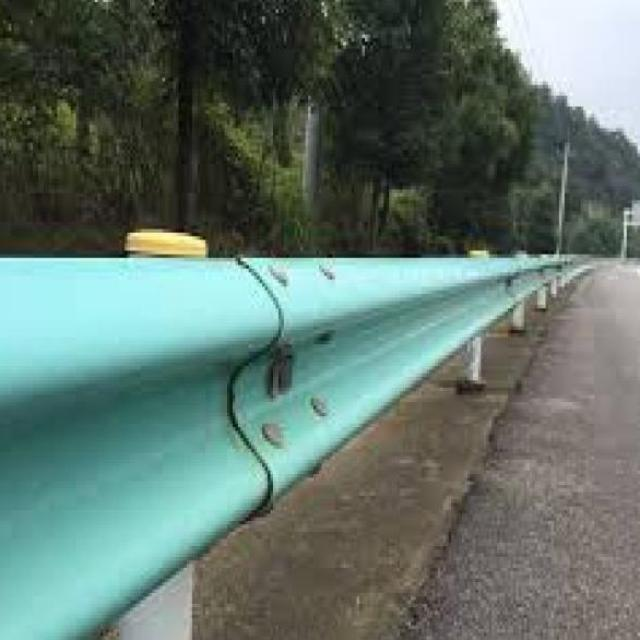Guard rail: (0, 256, 589, 640)
